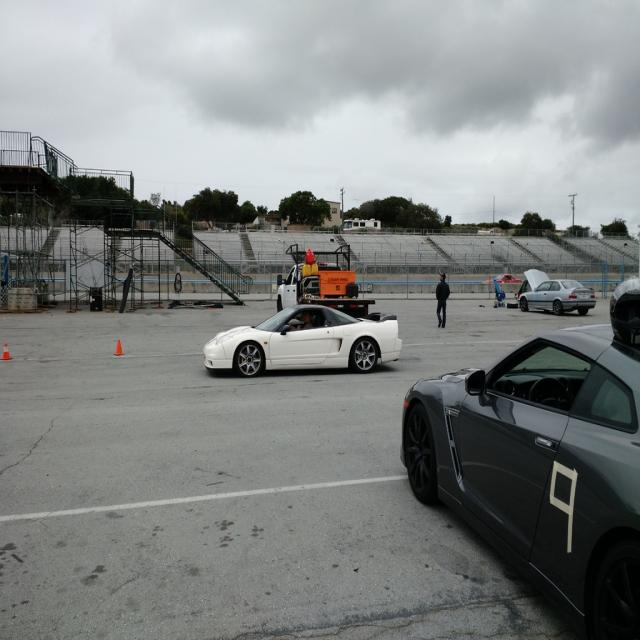car: (198, 300, 401, 379), (514, 265, 597, 317)
